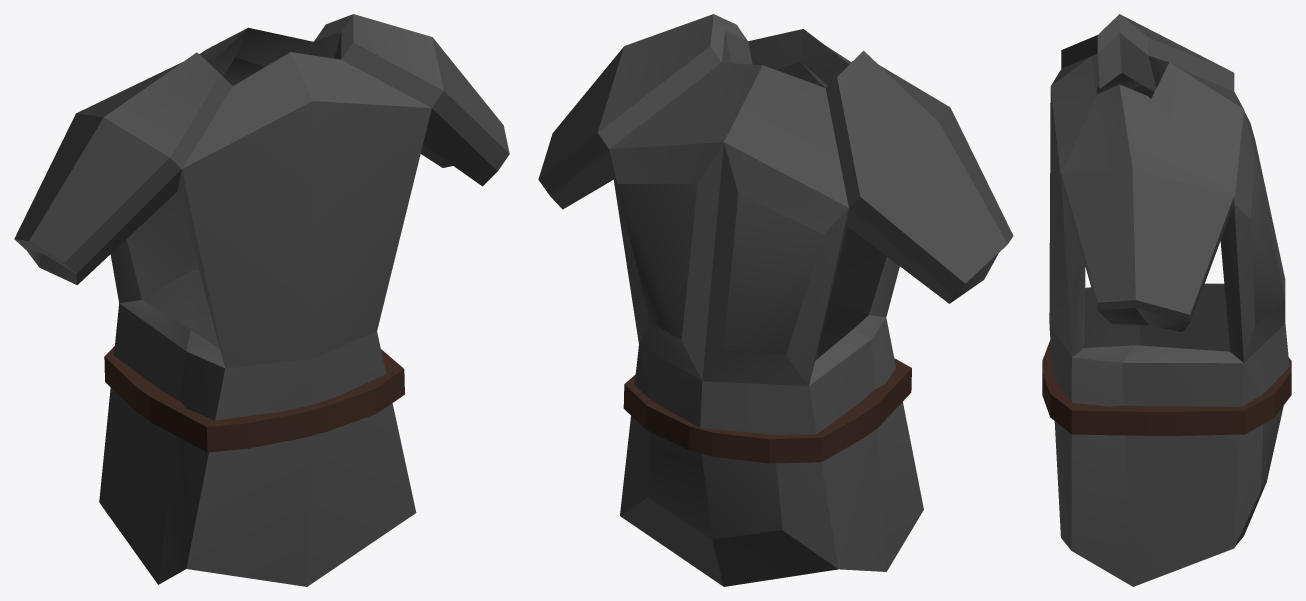
Rendered from Armor_CreativeTechLab_tVYVQc.glb.
The picture shows the model from 3 angles, left to right: view 1: azimuth 30°, elevation 25°; view 2: azimuth 150°, elevation 25°; view 3: azimuth 270°, elevation 25°; orthographic projection. The views are drawn at different scales.
Parts seen in each view (by area): view 1: armor; view 2: armor; view 3: armor.
Part boxes in pixels (box(x1,y1,x2,y2)): armor: box(14, 14, 509, 586); armor: box(538, 14, 1013, 586); armor: box(1042, 14, 1291, 586).
Bounding box in the file's own units: 0.5 × 0.5341 × 0.2472.
